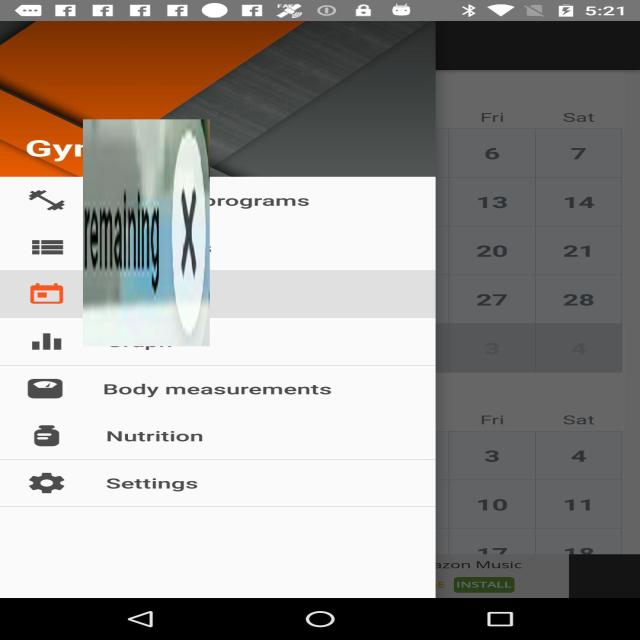misdirection: (83, 120, 210, 346)
